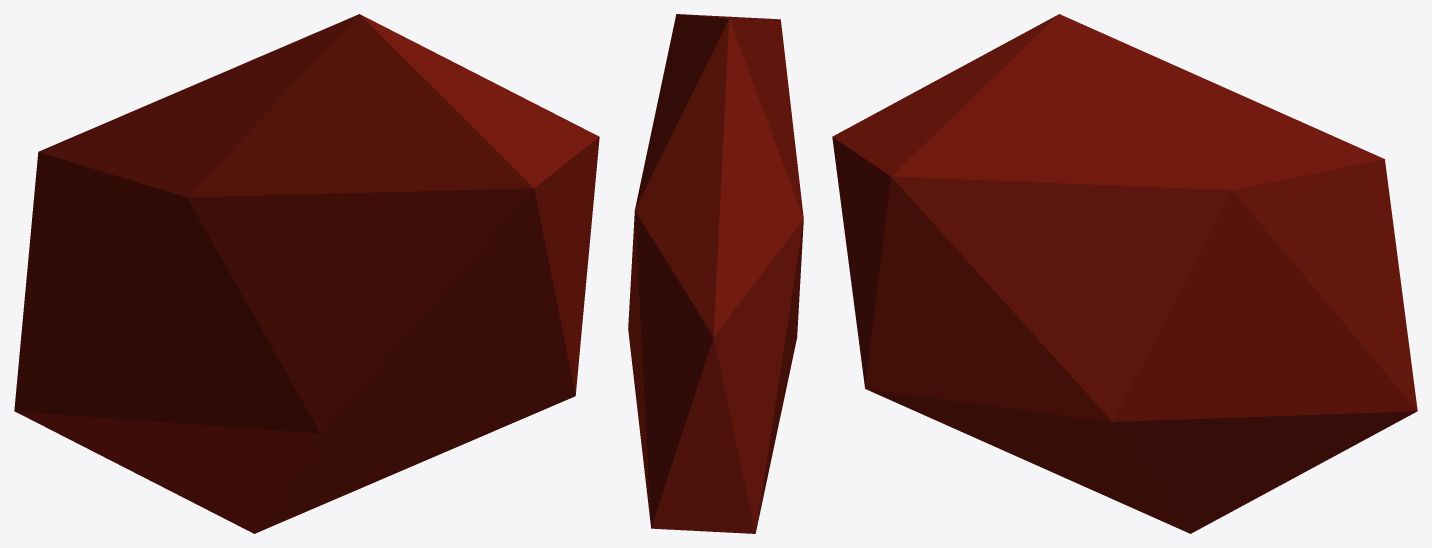
Rendered from Platonic_22.gltf.
3 views of the same model, side by side, from view 1: azimuth 30°, elevation 25°; view 2: azimuth 150°, elevation 25°; view 3: azimuth 270°, elevation 25° (orthographic). The views are drawn at different scales.
Visible parts, largest first — view 1: Platonic_22; view 2: Platonic_22; view 3: Platonic_22.
Boxes of the visible parts, x1,y1,x2,y2 form: Platonic_22: [14, 14, 599, 533]; Platonic_22: [628, 14, 803, 533]; Platonic_22: [832, 14, 1417, 533].
Bounding box in the file's own units: 23.96 × 37.7 × 37.25.
